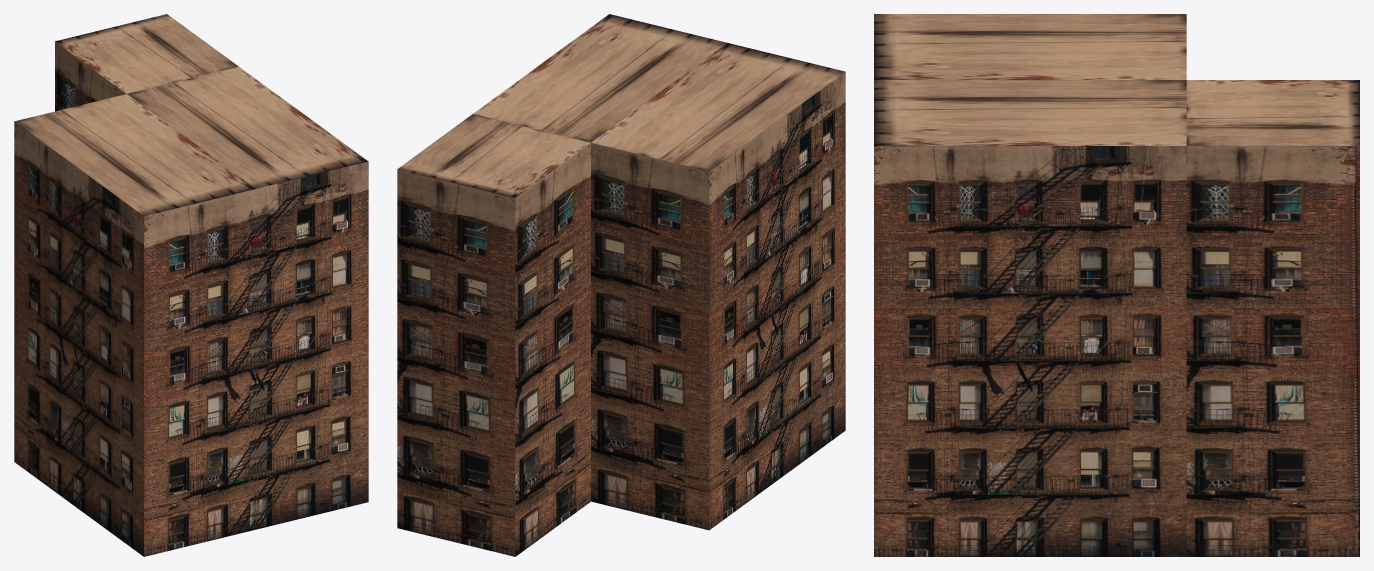
File: building2.glb
The picture shows the model from 3 angles, left to right: view 1: azimuth 30°, elevation 25°; view 2: azimuth 150°, elevation 25°; view 3: azimuth 270°, elevation 25°; orthographic projection. The views are drawn at different scales.
Parts seen in each view (by area): view 1: Object_8; view 2: Object_8; view 3: Object_8.
Boxes of the visible parts, <box> form: Object_8: <box>14,14,368,556</box>; Object_8: <box>397,14,845,556</box>; Object_8: <box>874,14,1359,556</box>.
Bounding box in the file's own units: 1.41 × 2.04 × 2.19.
1 material, 1 textured.
